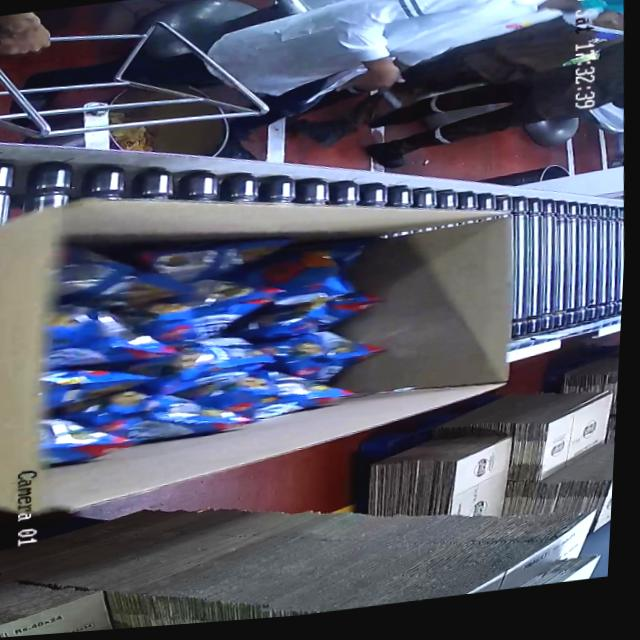PAPRIKA: (27, 242, 382, 461)
